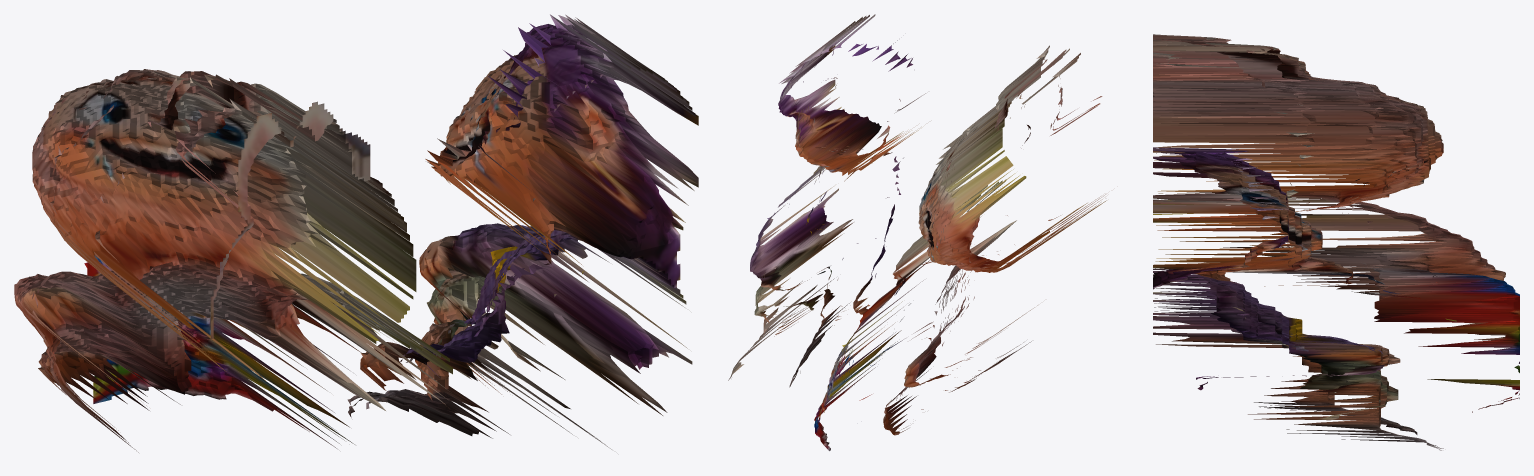
The model's file is frame_00423.glb.
3 renders of one model, left to right at view 1: azimuth 30°, elevation 25°; view 2: azimuth 150°, elevation 25°; view 3: azimuth 270°, elevation 25°, orthographic. The views are drawn at different scales.
Parts seen in each view (by area): view 1: geometry_0; view 2: geometry_0; view 3: geometry_0.
Part boxes in pixels (x1=…): geometry_0: x1=14, y1=14, x2=698, y2=452; geometry_0: x1=728, y1=14, x2=1106, y2=450; geometry_0: x1=1153, y1=34, x2=1519, y2=450.
Bounding box in the file's own units: 0.1575 × 0.1626 × 0.16.
1 material, 1 textured.
